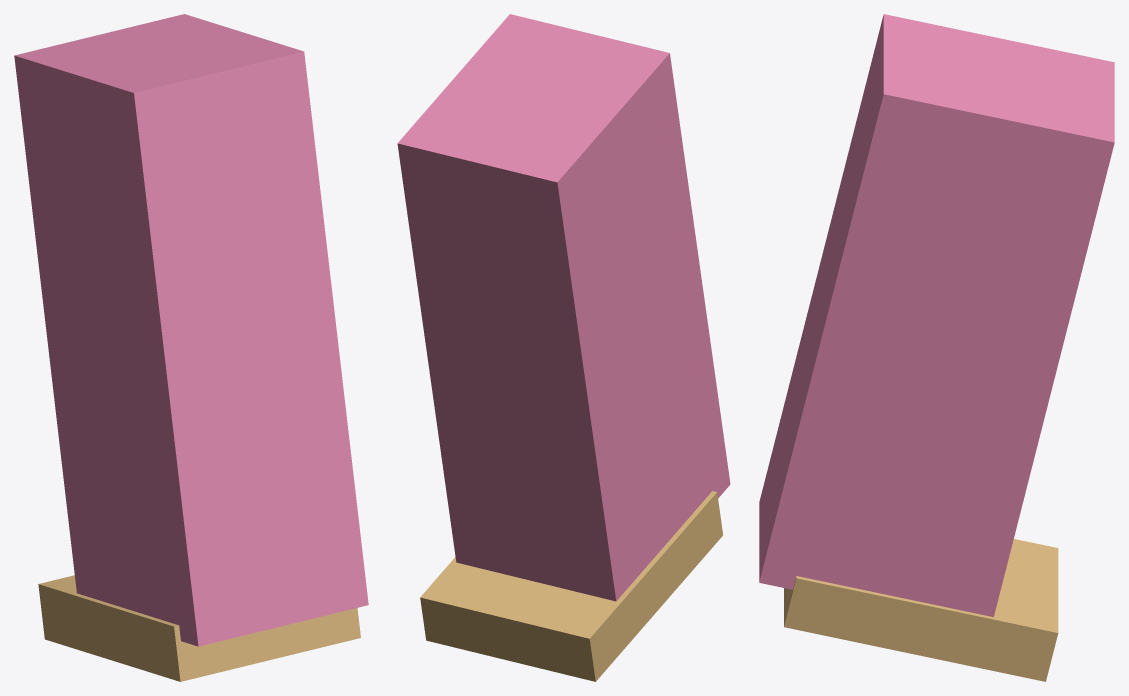
File: WeightedGrip.obj
3 views of the same model, side by side, from view 1: azimuth 30°, elevation 25°; view 2: azimuth 150°, elevation 25°; view 3: azimuth 270°, elevation 25° (orthographic). The views are drawn at different scales.
Parts seen in each view (by area): view 1: WeightedGrip_Body, WeightedGrip_Detail; view 2: WeightedGrip_Body, WeightedGrip_Detail; view 3: WeightedGrip_Body, WeightedGrip_Detail.
Boxes of the visible parts, box(x1,y1,x2,y2) form: WeightedGrip_Body: box(14, 14, 368, 646); WeightedGrip_Detail: box(38, 575, 360, 681); WeightedGrip_Body: box(397, 14, 730, 601); WeightedGrip_Detail: box(420, 491, 722, 681); WeightedGrip_Body: box(759, 14, 1114, 616); WeightedGrip_Detail: box(784, 539, 1058, 681).
Size of the model in its own units: 0.1272 by 0.4086 by 0.2249.
